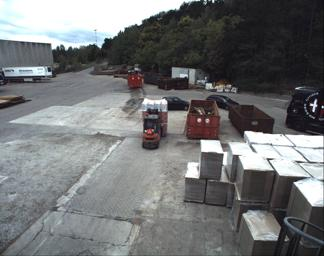rockwool_batts: (140, 97, 166, 135)
